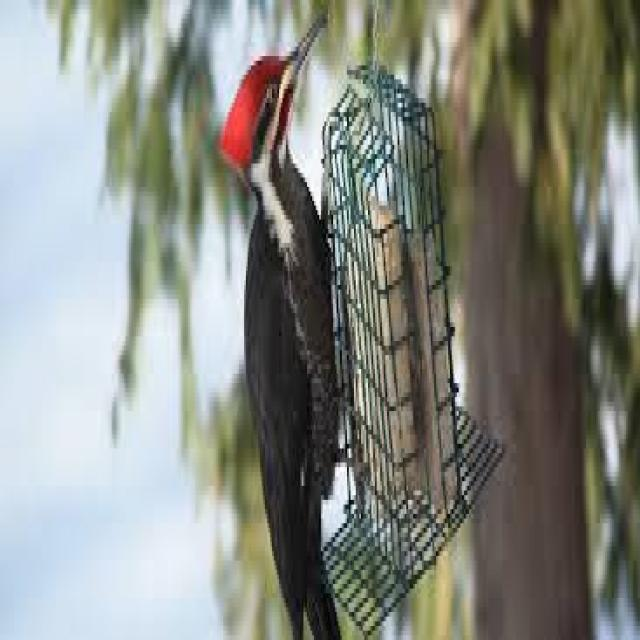Woodpecker: (218, 3, 355, 640)
